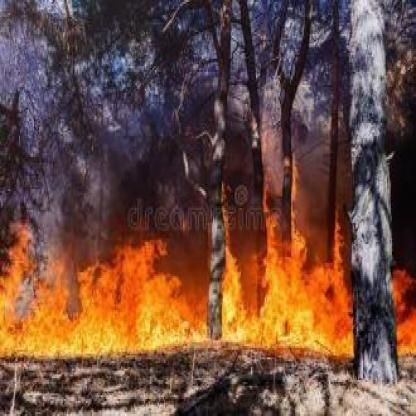fire: (0, 211, 207, 352), (222, 206, 354, 358), (392, 260, 413, 355)
smoke: (124, 132, 260, 208)
